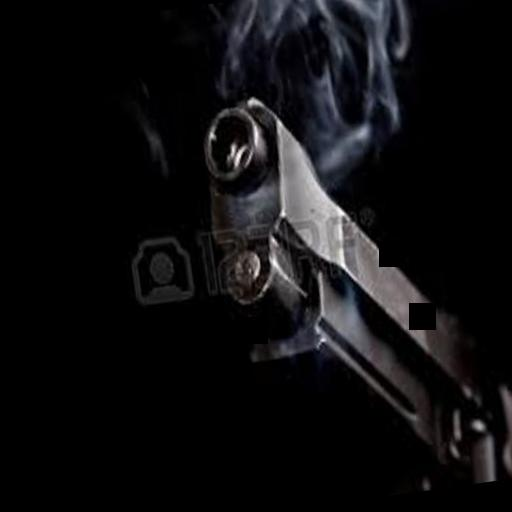Handgun: (184, 49, 512, 512)
